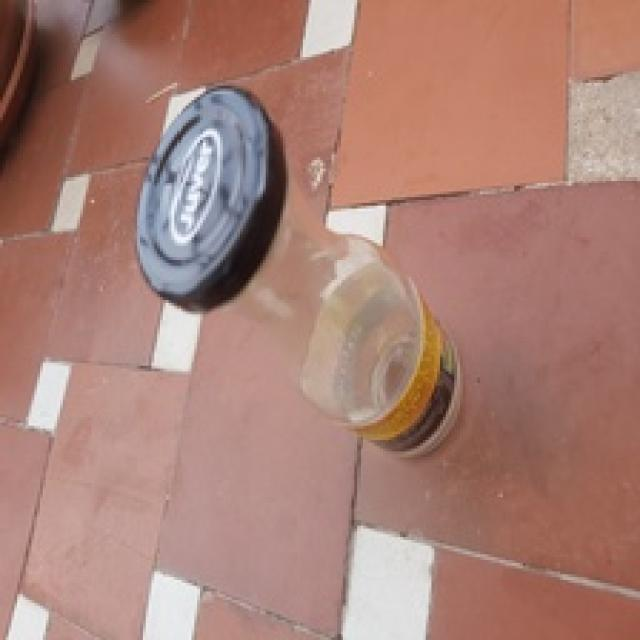Glass: (230, 176, 460, 459)
